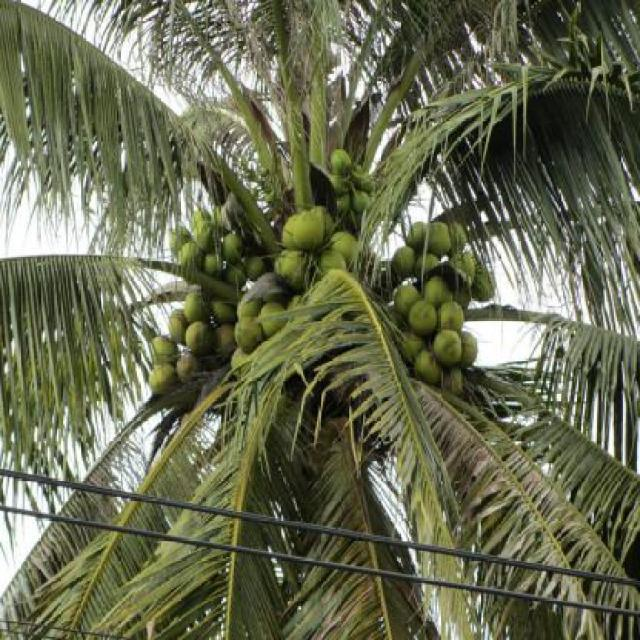Coconut: (144, 146, 496, 397)
